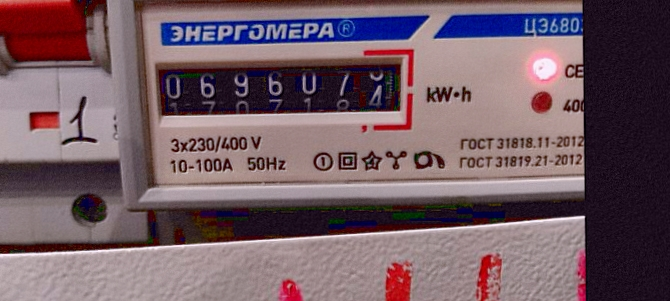0: (300, 67, 318, 97), (165, 72, 182, 100)
4: (367, 81, 384, 110)
6: (267, 68, 284, 97), (199, 71, 216, 99)
7: (334, 67, 353, 98)
9: (232, 70, 250, 99)
screen: (142, 46, 420, 133)
